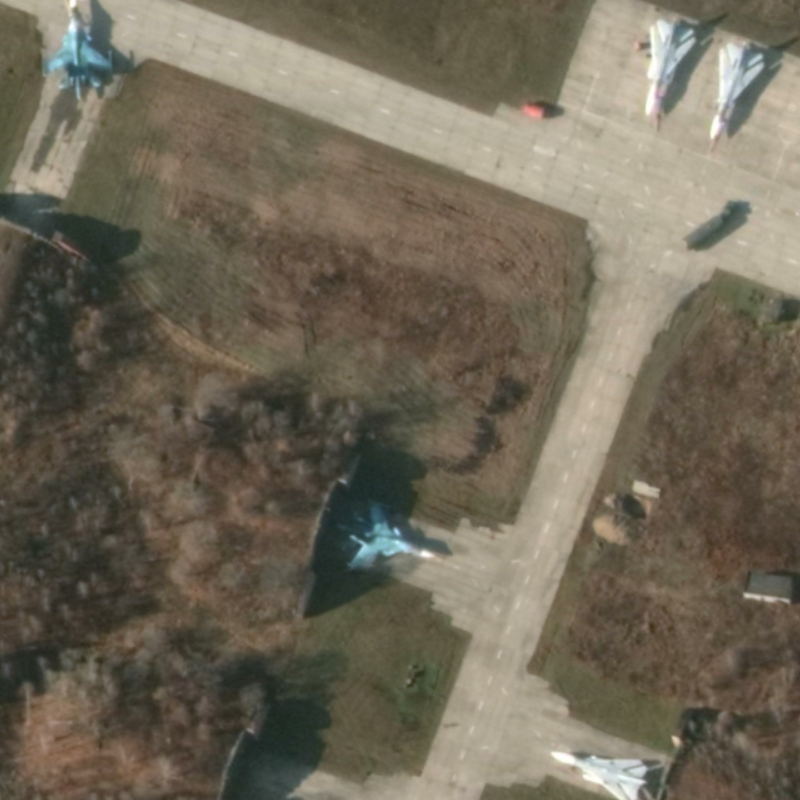A19: (334, 499, 438, 575), (39, 1, 116, 102)
A20: (706, 40, 768, 142), (642, 18, 699, 118), (548, 749, 651, 800)
